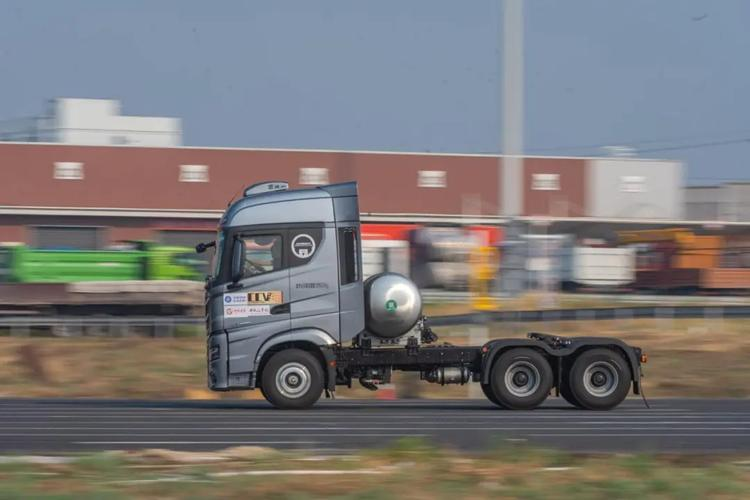卡车: (193, 171, 674, 424)
